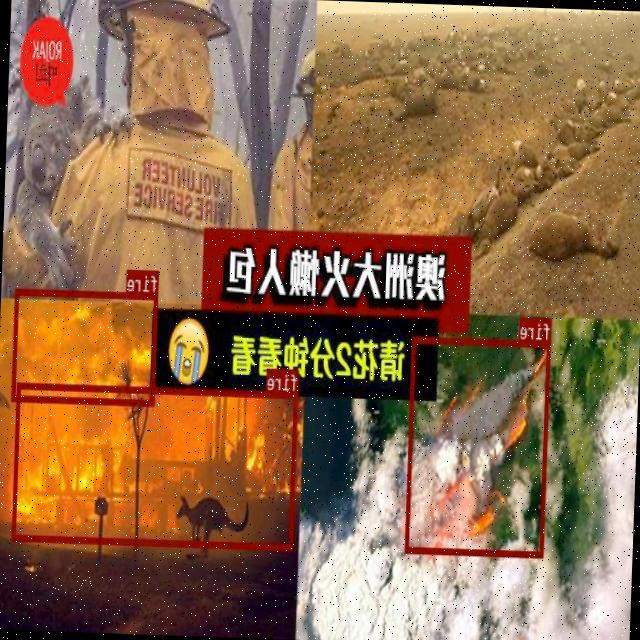fire: (12, 381, 298, 549), (405, 335, 551, 556), (12, 288, 158, 404)
